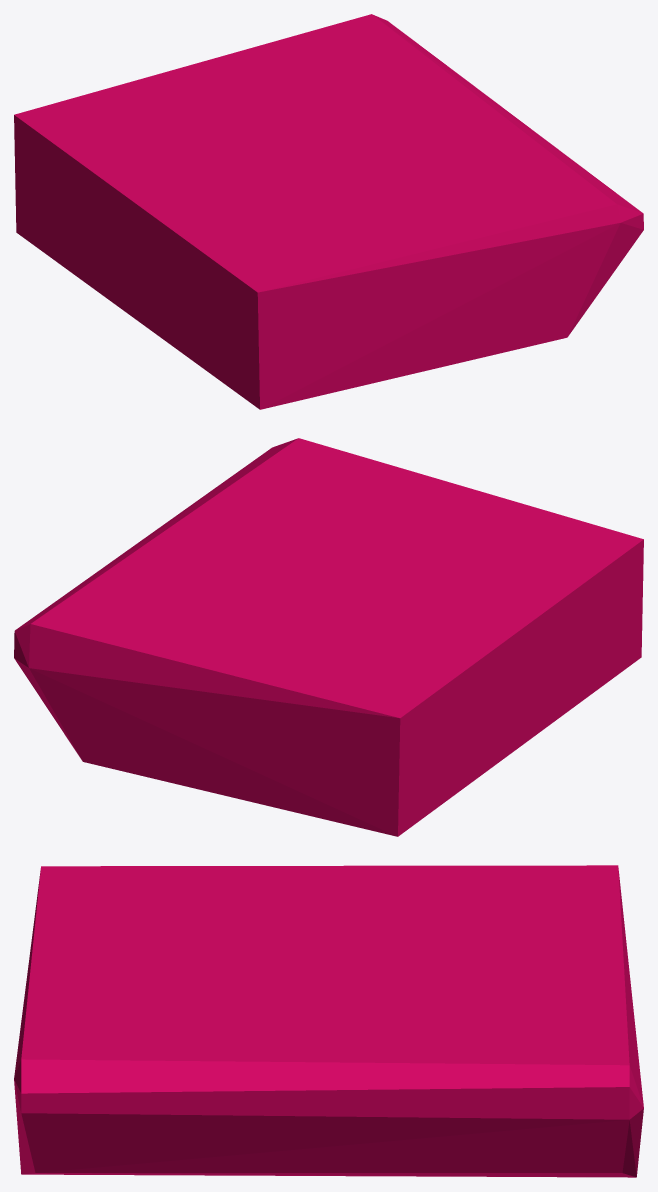
File: pent_convex_piece_005.obj
3 renders of one model, top to bottom at view 1: azimuth 30°, elevation 25°; view 2: azimuth 150°, elevation 25°; view 3: azimuth 270°, elevation 25°, orthographic. The views are drawn at different scales.
Size of the model in its own units: 0.0466 by 0.015 by 0.0565.
